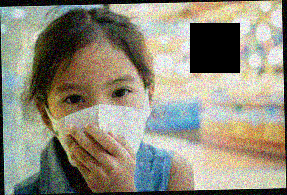with_mask: (49, 74, 150, 170)
